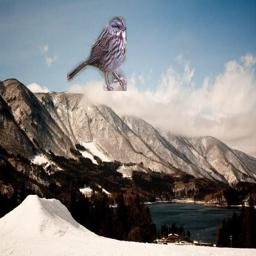Sparrow: (67, 16, 127, 91)
